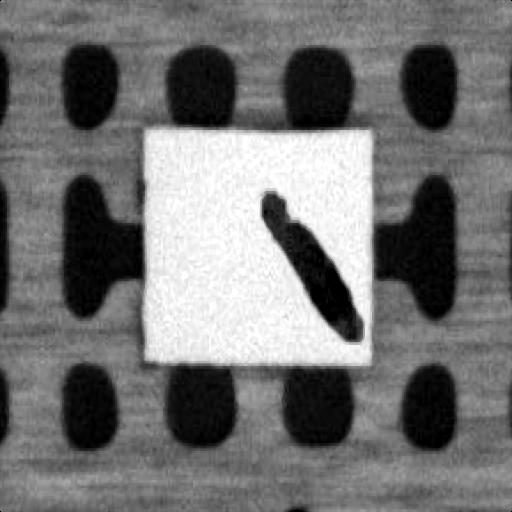DIE_INK: (250, 180, 370, 353)
